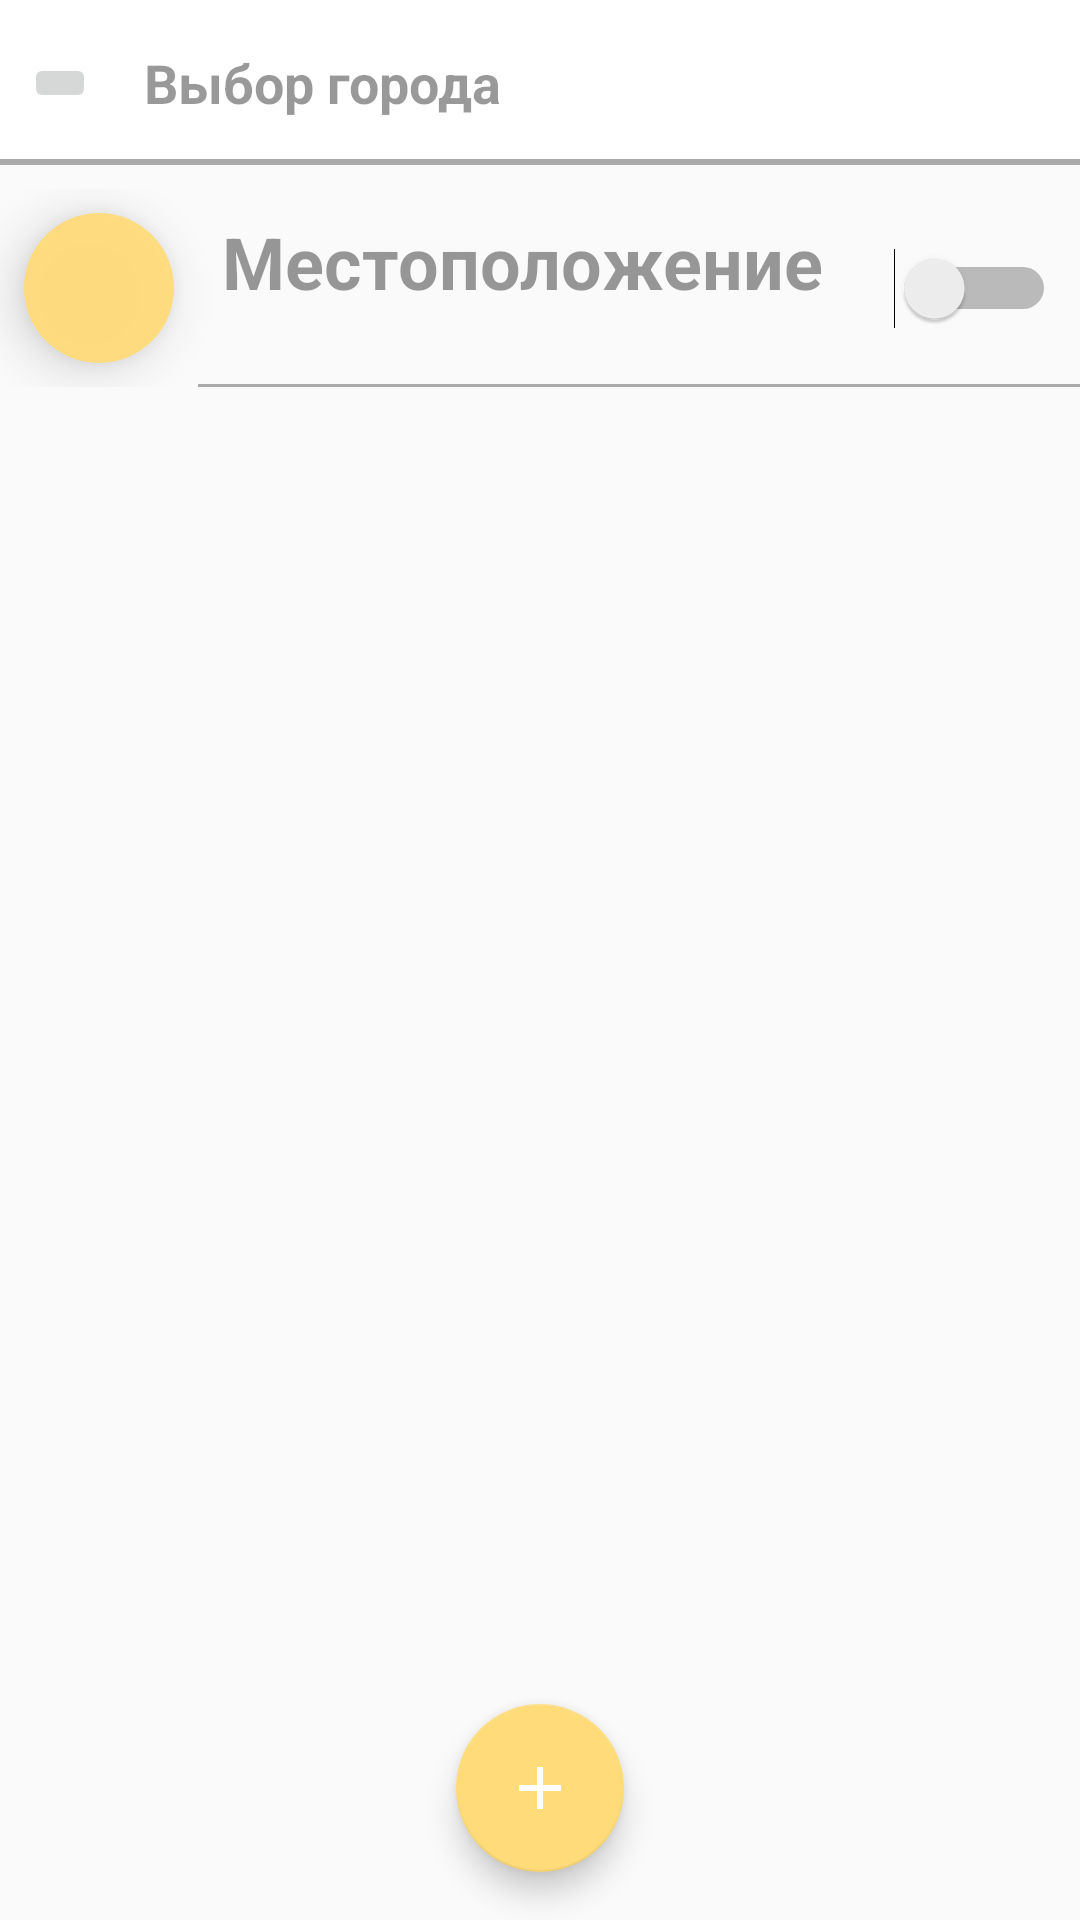

Screen size 1080px×1920px. Icon name, then its box in pixels as (x1, y1, x2, y2):
add city: (456, 1704, 624, 1872)
